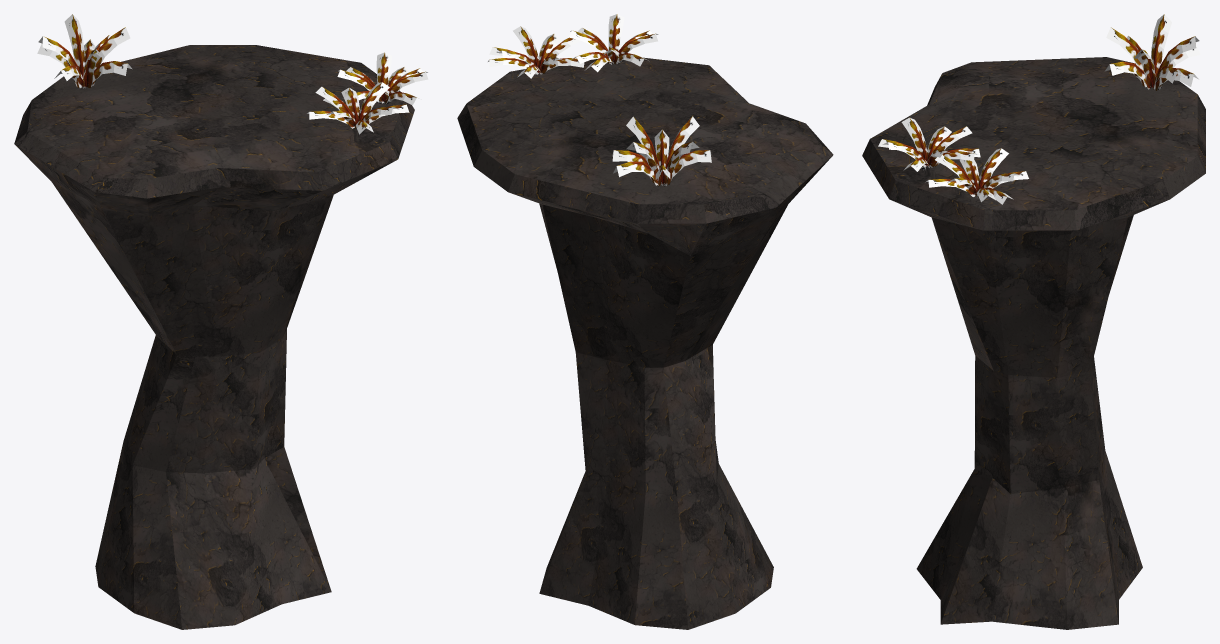
Rendered from platform_3_tex_0001.fbx.
3 views of the same model, side by side, from view 1: azimuth 30°, elevation 25°; view 2: azimuth 150°, elevation 25°; view 3: azimuth 270°, elevation 25° (orthographic). The views are drawn at different scales.
Visible parts, largest first — view 1: Box001, Plane001_7; view 2: Box001; view 3: Box001, Plane001_8, Plane001_8_2, Plane001_8_3, Plane001_2.
Boxes of the visible parts, x1,y1,x2,y2 form: Box001: (14,45,414,629); Plane001_7: (64,14,85,77); Box001: (457,57,833,629); Box001: (862,57,1205,629); Plane001_8: (1151,14,1171,78); Plane001_8_2: (901,117,927,161); Plane001_8_3: (978,148,1008,188); Plane001_2: (1104,61,1150,89).
Size of the model in its own units: 60.88 by 86.5 by 51.39.
Materials: 28 (28 with a texture image).
